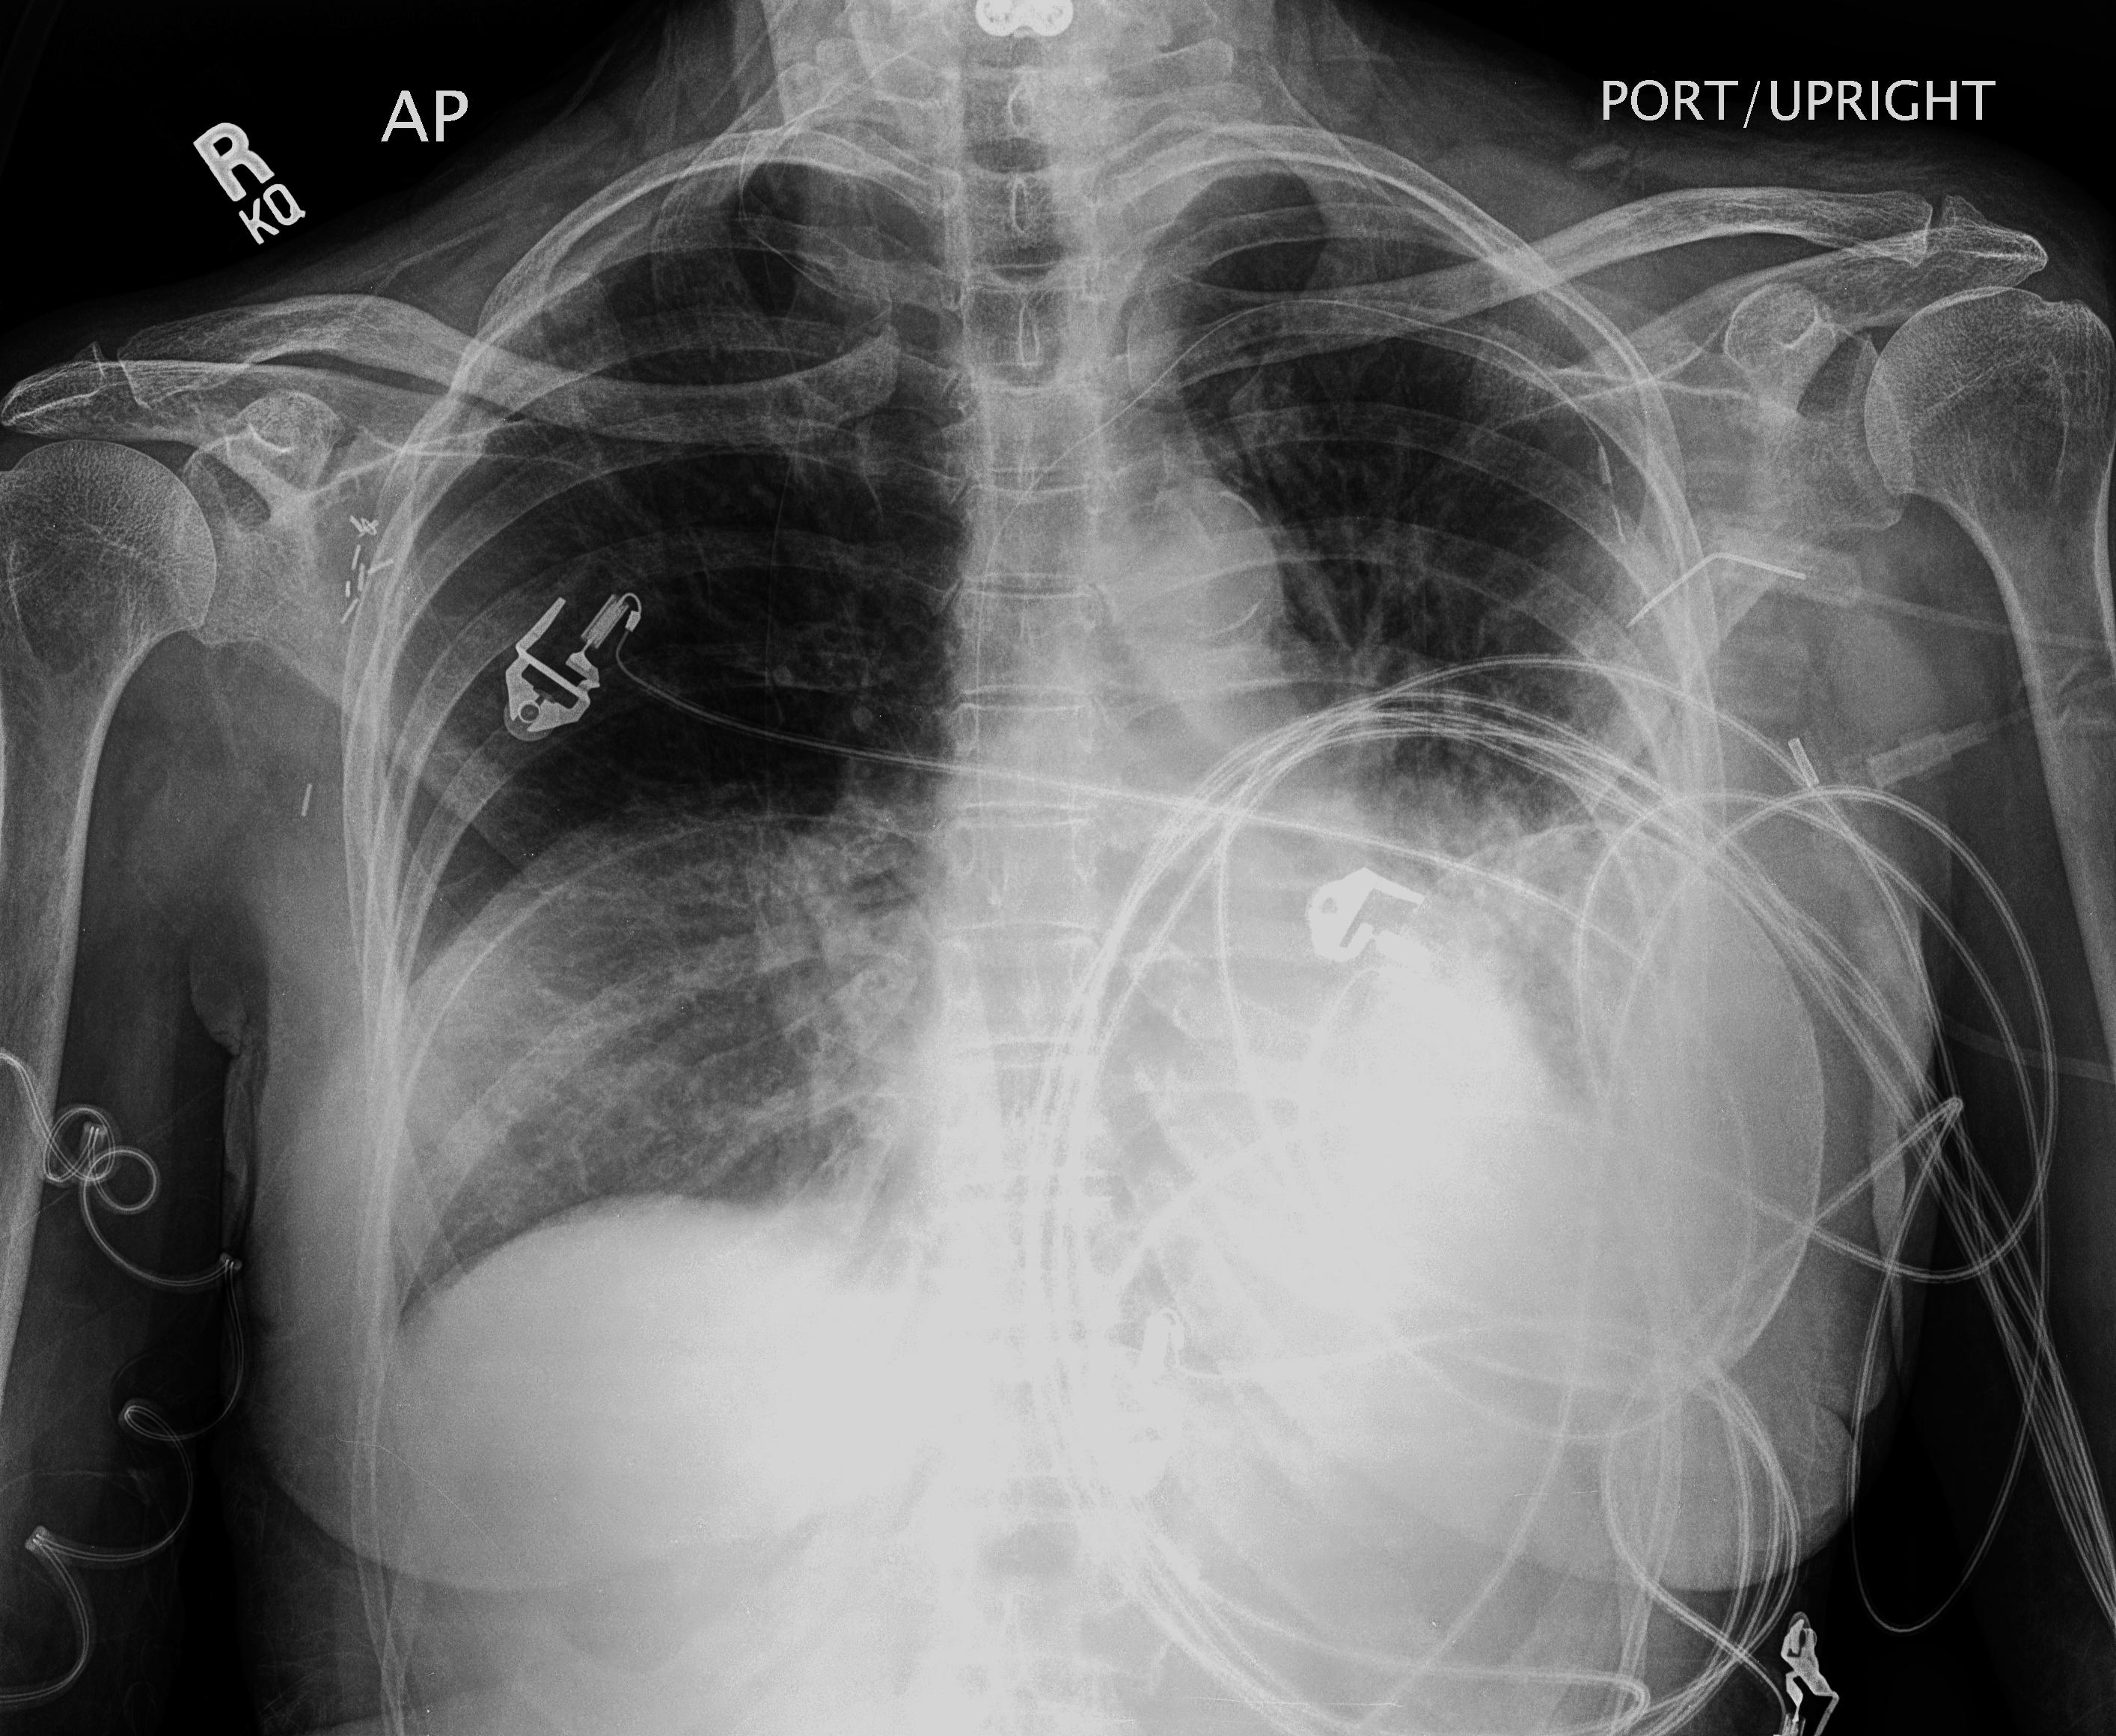Pleural Effusion: (1355, 808, 1738, 1388)
